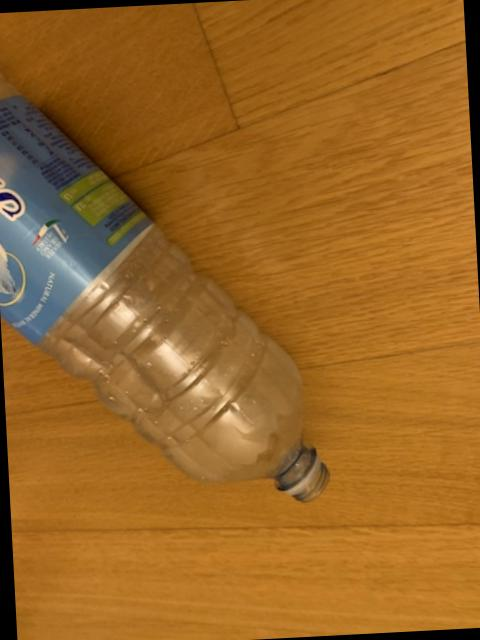plastic: (0, 98, 329, 502), (0, 76, 13, 94)
